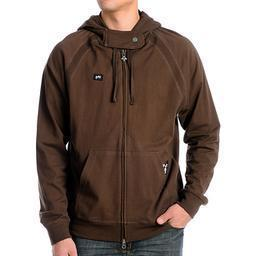jacket: (34, 9, 221, 245)
trousers: (70, 221, 185, 256)
